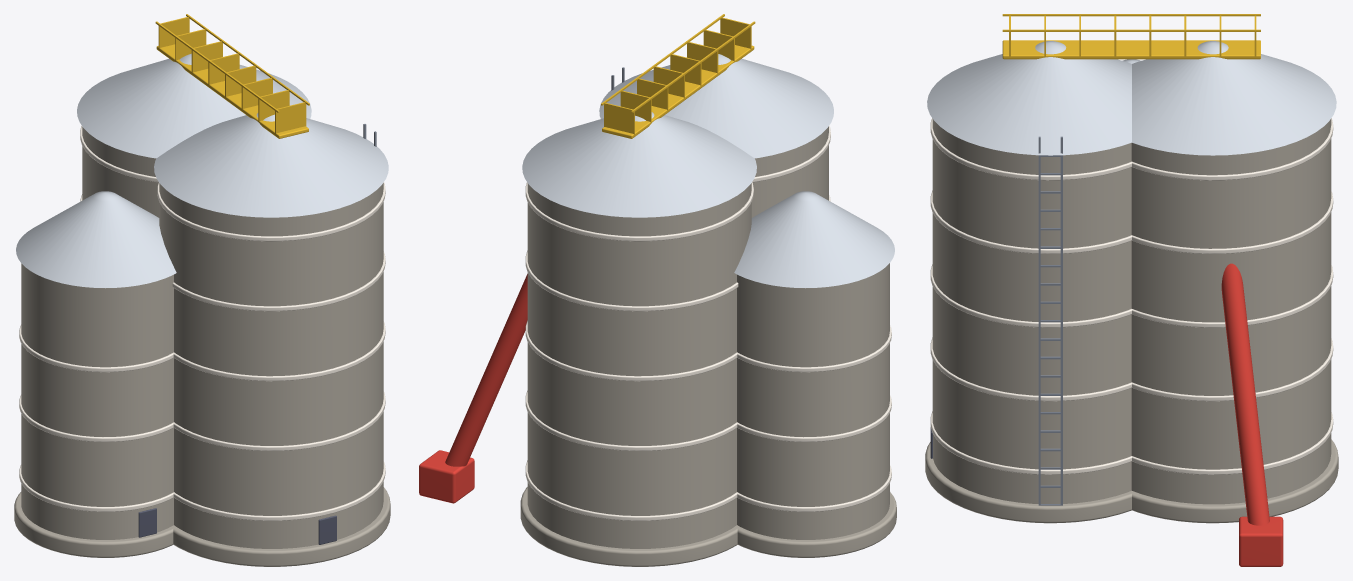
Rendered from grain_silo.glb.
3 views of the same model, side by side, from view 1: azimuth 30°, elevation 25°; view 2: azimuth 150°, elevation 25°; view 3: azimuth 270°, elevation 25° (orthographic). The views are drawn at different scales.
Visible parts, largest first — view 1: grain_silo; view 2: grain_silo; view 3: grain_silo.
Part boxes in pixels (bbox=[...]): grain_silo: bbox=[14, 14, 390, 566]; grain_silo: bbox=[419, 14, 896, 566]; grain_silo: bbox=[925, 14, 1338, 566].
Bounding box in the file's own units: 13 × 13.42 × 11.19.
1 material, 1 textured.
